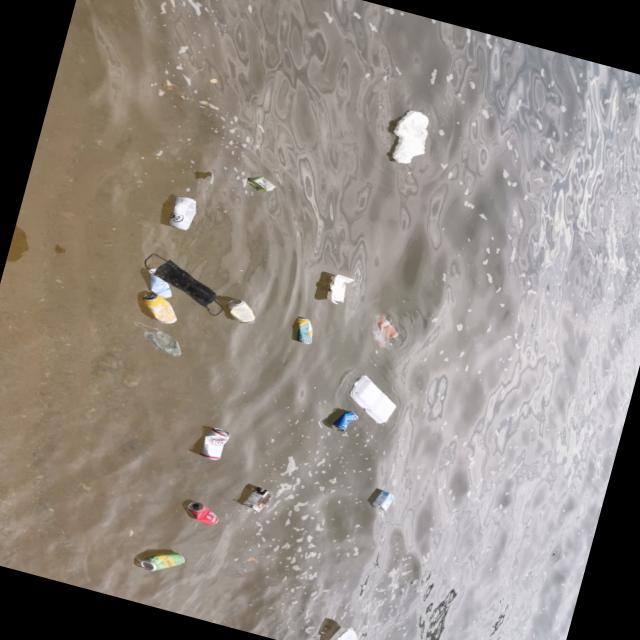can: (134, 289, 184, 327), (138, 544, 189, 580), (163, 194, 205, 236), (139, 268, 179, 303), (197, 426, 231, 464), (184, 502, 222, 527), (329, 407, 358, 436), (291, 316, 318, 346)
foam: (343, 372, 401, 427), (384, 107, 435, 169), (319, 273, 361, 311), (323, 623, 360, 640)
